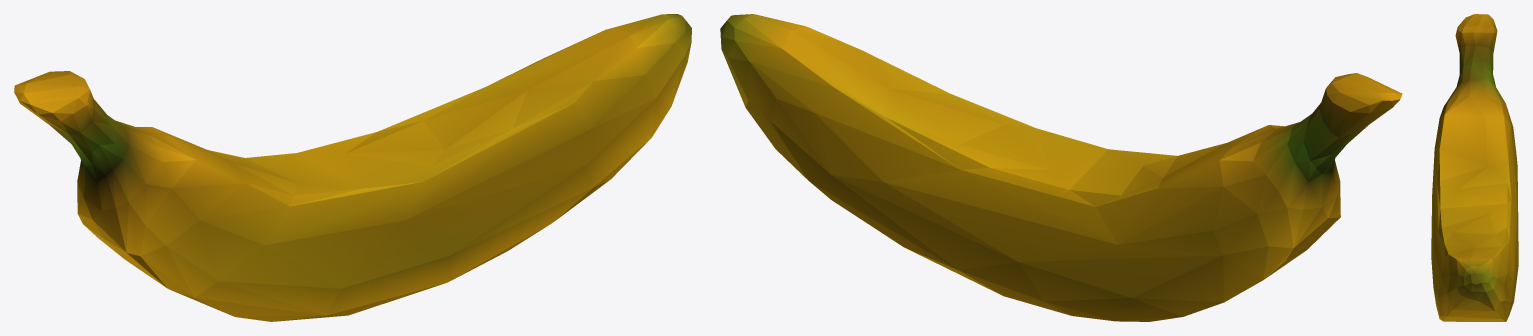
The model's file is Banana.fbx.
3 renders of one model, left to right at view 1: azimuth 30°, elevation 25°; view 2: azimuth 150°, elevation 25°; view 3: azimuth 270°, elevation 25°, orthographic. The views are drawn at different scales.
Parts seen in each view (by area): view 1: Banana, Banana.sliced, Banana.sliced.001; view 2: Banana, Banana.sliced.001, Banana.sliced; view 3: Banana, Banana.sliced, Banana.sliced.001.
Part boxes in pixels (bbox=[...]): Banana: bbox=[14, 14, 691, 321]; Banana.sliced: bbox=[265, 152, 371, 315]; Banana.sliced.001: bbox=[304, 132, 448, 305]; Banana: bbox=[720, 14, 1402, 321]; Banana.sliced.001: bbox=[886, 149, 1107, 301]; Banana.sliced: bbox=[1045, 153, 1221, 321]; Banana: bbox=[1431, 14, 1518, 321]; Banana.sliced: bbox=[1432, 181, 1518, 249]; Banana.sliced.001: bbox=[1434, 205, 1518, 278].
Size of the model in its own units: 546 by 216 by 96.22.
